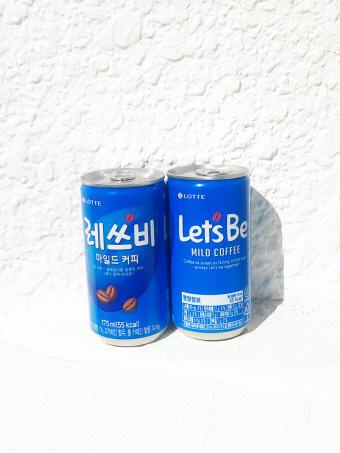letsbe: (77, 165, 174, 347), (168, 163, 254, 340)
